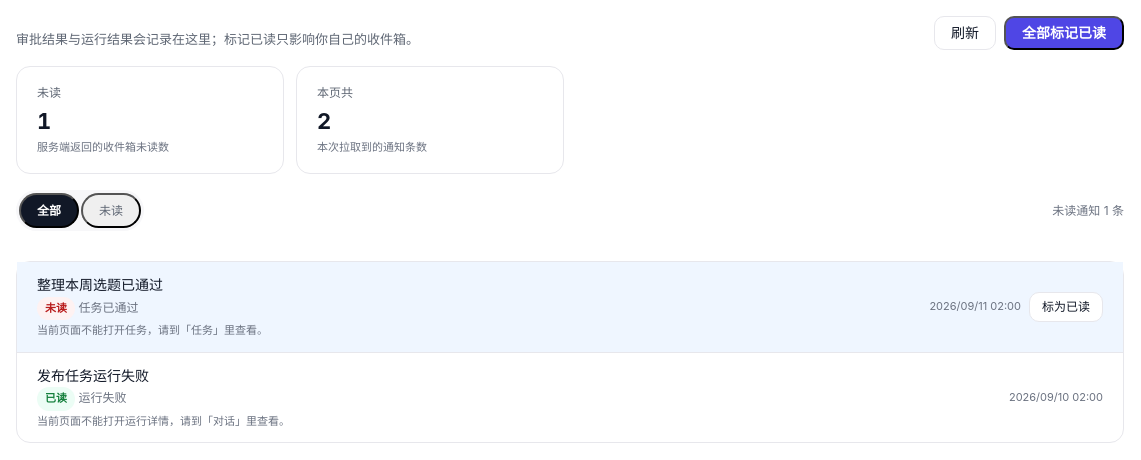
Scenario: InboxPage › filters to unread rows in the client without another server request
Check: the text "整理本周选题已通过" is shown, box [37,276,163,293]
Check: the text "发布任务运行失败" is shown, box [37,367,149,384]
Step 1. Click the tab "未读" → (111, 211), box [81,193,141,228]
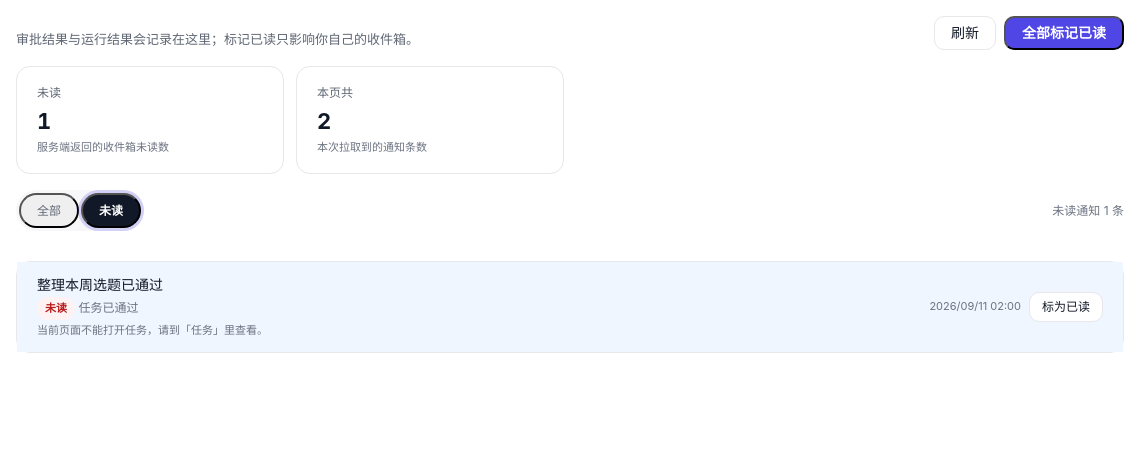
Check: the text "整理本周选题已通过" is shown, box [37,276,163,293]
Check: the text "发布任务运行失败" is gone
